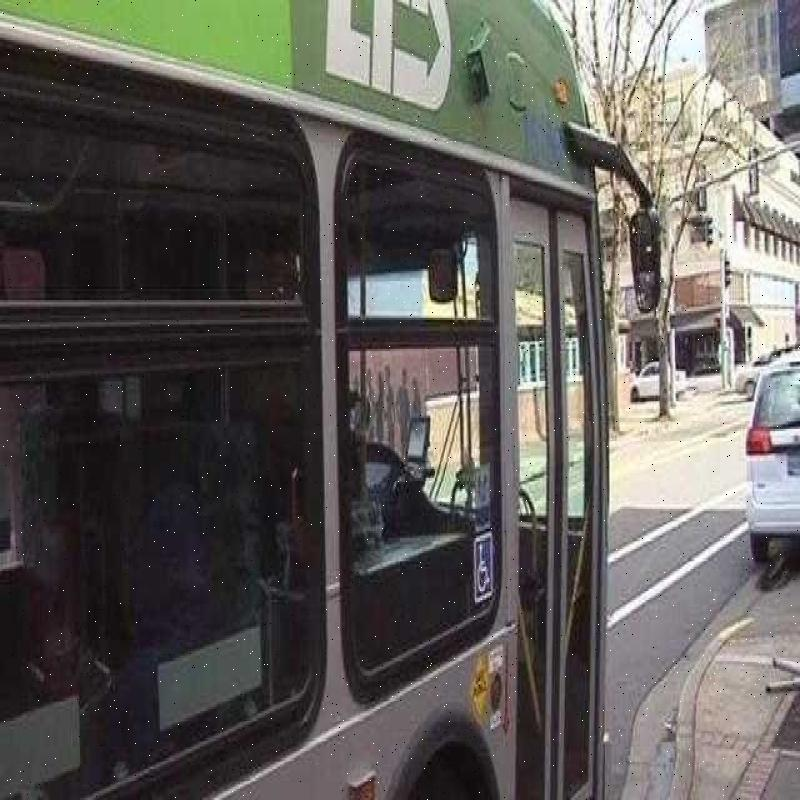bus: (7, 5, 657, 800)
